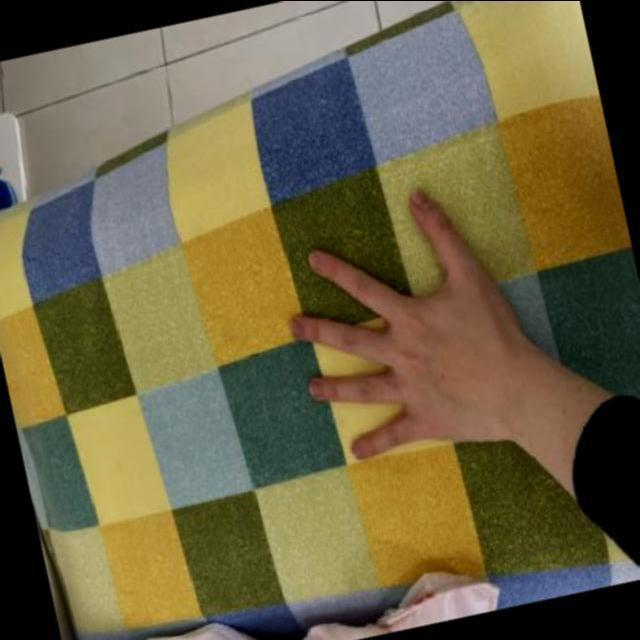hand: (248, 142, 576, 498)
